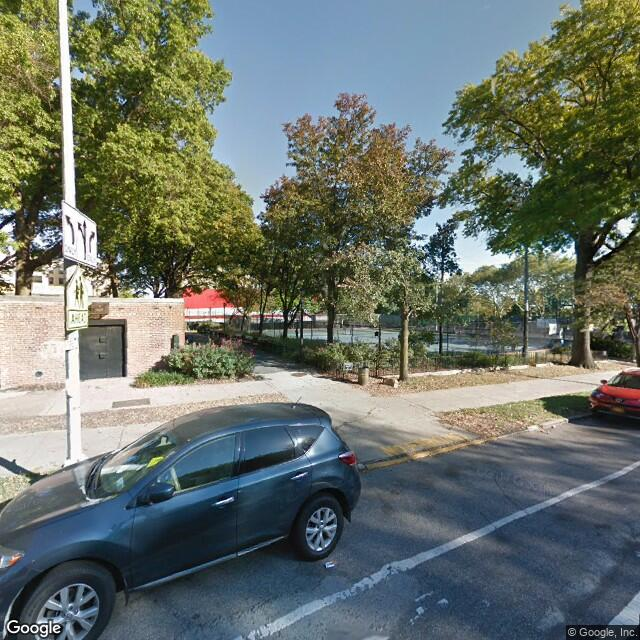litter: (322, 559, 338, 571), (529, 426, 541, 433), (550, 424, 556, 427)
